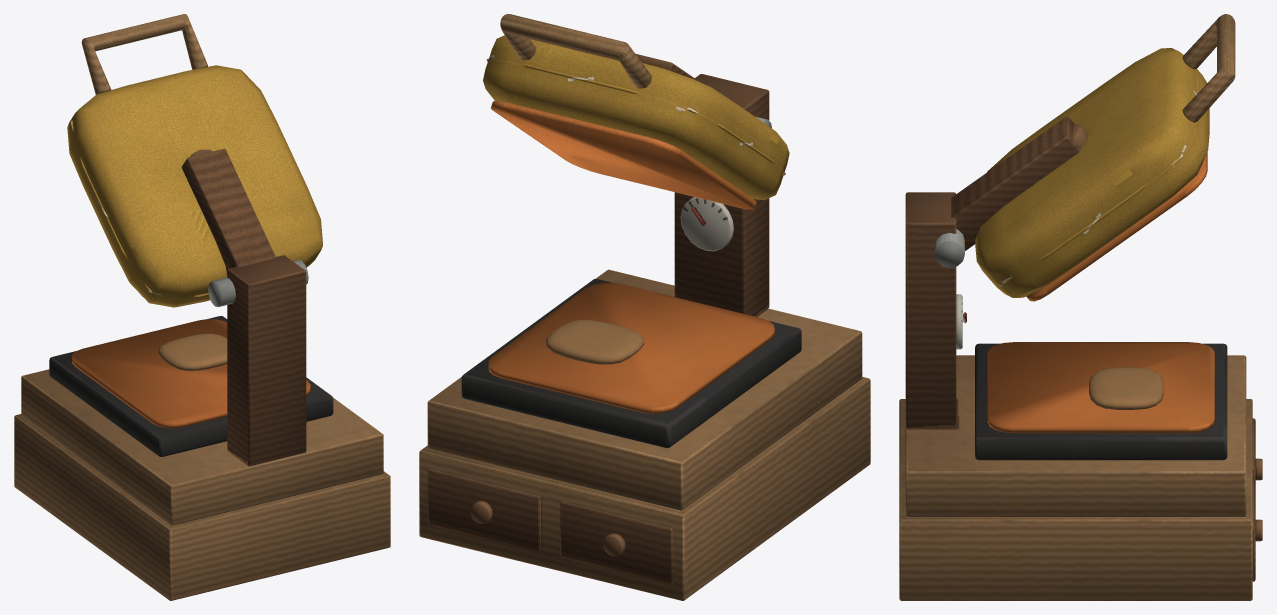
File: giant_heat_press_mustard.glb
3 views of the same model, side by side, from view 1: azimuth 30°, elevation 25°; view 2: azimuth 150°, elevation 25°; view 3: azimuth 270°, elevation 25° (orthographic). The views are drawn at different scales.
Parts seen in each view (by area): view 1: prop_giant_heat_press_mustard_wood, prop_giant_heat_press_mustard_felt, prop_giant_heat_press_mustard_felt_heat; view 2: prop_giant_heat_press_mustard_wood, prop_giant_heat_press_mustard_felt, prop_giant_heat_press_mustard_felt_heat; view 3: prop_giant_heat_press_mustard_wood, prop_giant_heat_press_mustard_felt, prop_giant_heat_press_mustard_felt_heat.
Part boxes in pixels (bbox=[...]): prop_giant_heat_press_mustard_wood: bbox=[14, 14, 390, 600]; prop_giant_heat_press_mustard_felt: bbox=[49, 65, 333, 456]; prop_giant_heat_press_mustard_felt_heat: bbox=[72, 295, 310, 428]; prop_giant_heat_press_mustard_wood: bbox=[419, 14, 870, 600]; prop_giant_heat_press_mustard_felt: bbox=[461, 35, 801, 448]; prop_giant_heat_press_mustard_felt_heat: bbox=[488, 101, 774, 413]; prop_giant_heat_press_mustard_wood: bbox=[899, 14, 1262, 600]; prop_giant_heat_press_mustard_felt: bbox=[934, 48, 1227, 460]; prop_giant_heat_press_mustard_felt_heat: bbox=[987, 152, 1214, 433].
Size of the model in its own units: 1.6 by 3.06 by 2.01.
Materials: 3 (3 with a texture image).
